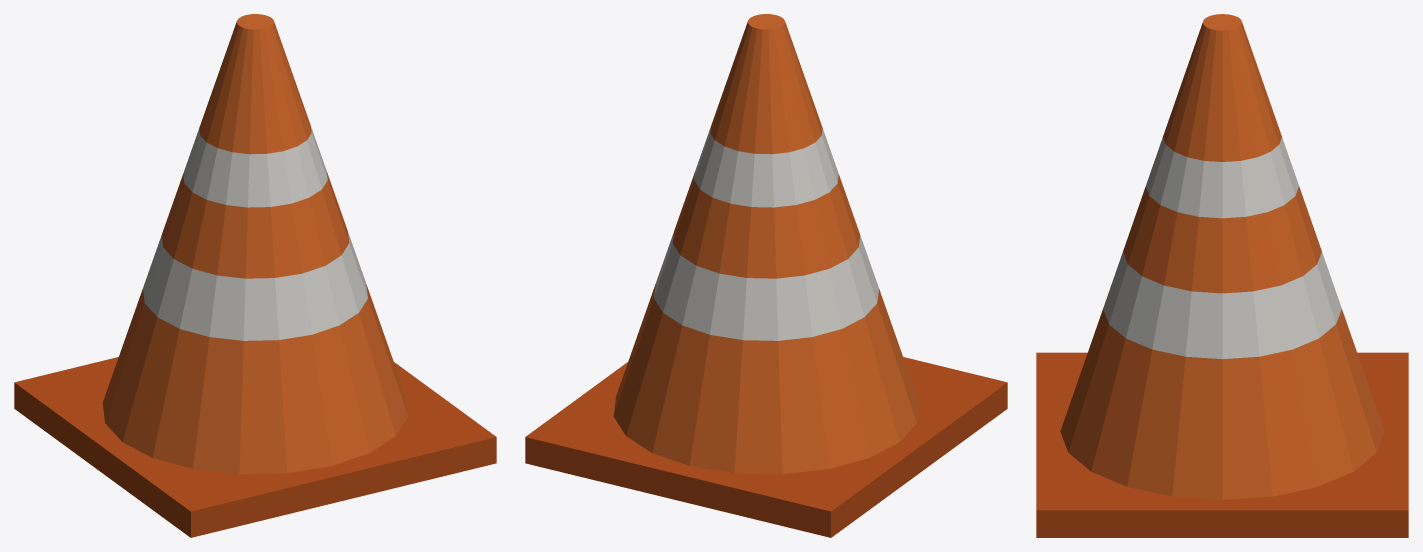
Rendered from obstacle_cone.glb.
The picture shows the model from 3 angles, left to right: view 1: azimuth 30°, elevation 25°; view 2: azimuth 150°, elevation 25°; view 3: azimuth 270°, elevation 25°; orthographic projection. The views are drawn at different scales.
Visible parts, largest first — view 1: body; view 2: body; view 3: body.
Part boxes in pixels (x1=…): body: x1=14, y1=14, x2=496, y2=537; body: x1=525, y1=14, x2=1007, y2=537; body: x1=1036, y1=14, x2=1408, y2=537.
Size of the model in its own units: 1.7 by 2.2 by 1.7.
